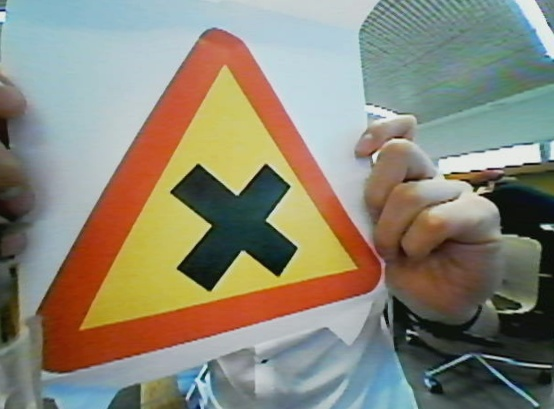junction: (40, 21, 419, 373)
